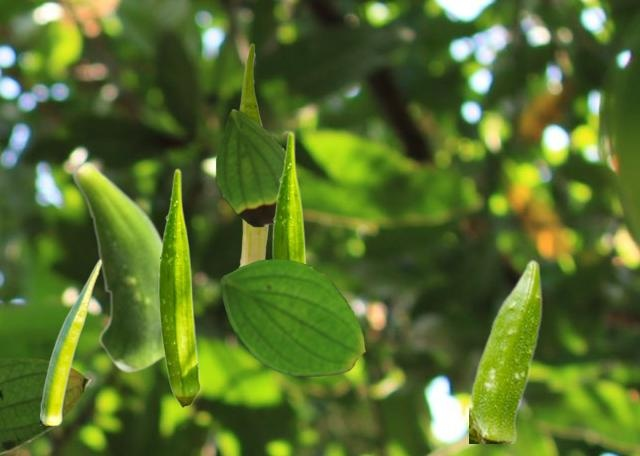okra: (71, 160, 163, 372), (469, 258, 542, 442), (158, 168, 200, 407), (40, 260, 100, 424), (238, 43, 268, 266), (272, 131, 306, 263)
